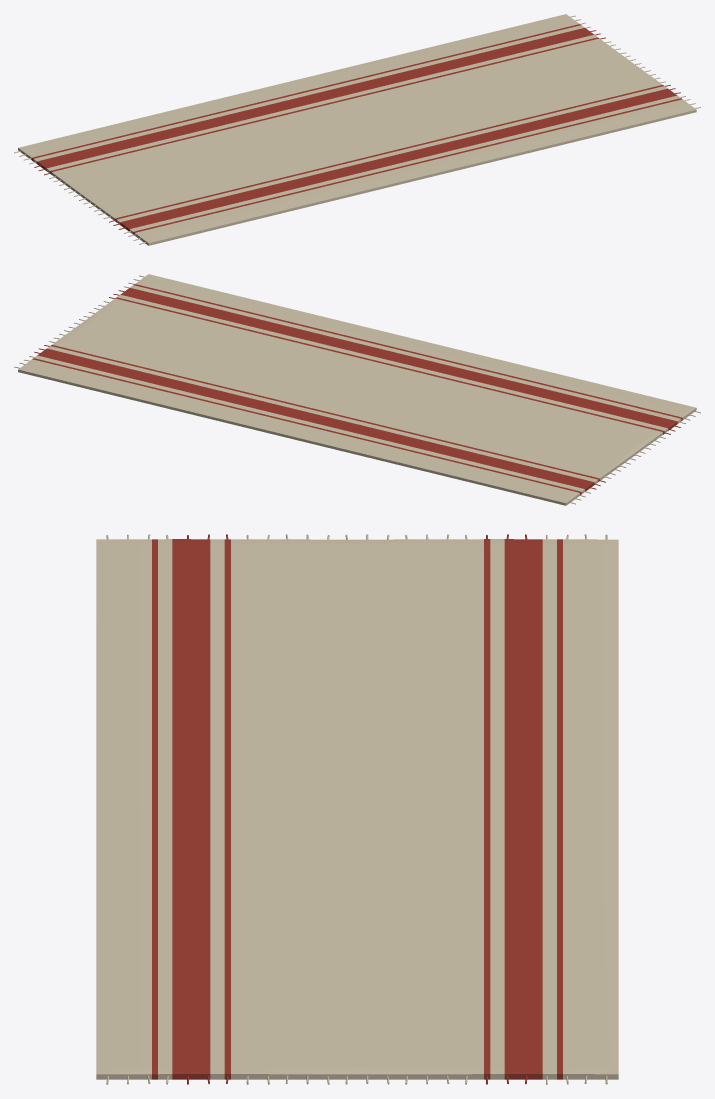
Rendered from kitchen-table-runner-3f95f57b7933.glb.
3 renders of one model, top to bottom at view 1: azimuth 30°, elevation 25°; view 2: azimuth 150°, elevation 25°; view 3: azimuth 270°, elevation 25°, orthographic. The views are drawn at different scales.
Parts seen in each view (by area): view 1: paper, accent-warm; view 2: paper, accent-warm; view 3: paper, accent-warm.
Boxes of the visible parts, box(x1,y1,x2,y2) form: paper: box(14, 14, 700, 245); accent-warm: box(32, 24, 682, 234); paper: box(14, 274, 700, 505); accent-warm: box(32, 284, 682, 494); paper: box(96, 534, 618, 1084); accent-warm: box(152, 534, 562, 1084).
Bounding box in the file's own units: 0.8201 × 0.004 × 0.33.
